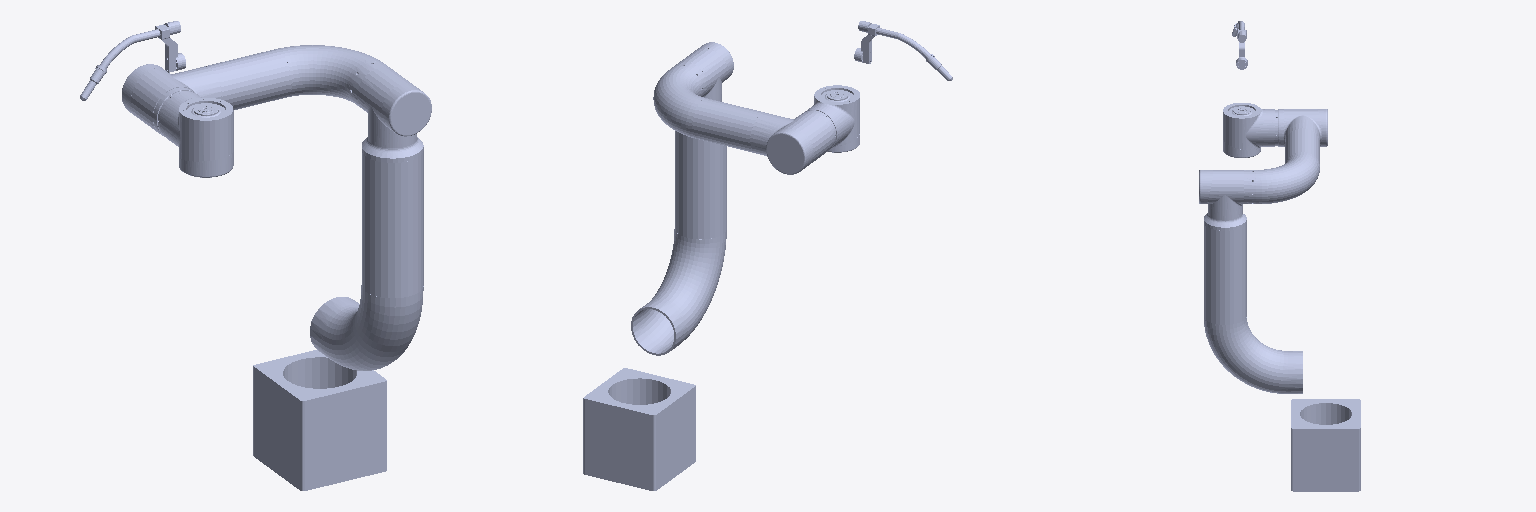
The robot description file, URDF, robot "URDF_Assembly_Robot_ver2":
<?xml version="1.0" encoding="utf-8"?>
<!-- This URDF was automatically created by SolidWorks to URDF Exporter! Originally created by Stephen Brawner (brawner@gmail.com) 
     Commit Version: 1.6.0-4-g7f85cfe  Build Version: 1.6.7995.38578
     For more information, please see http://wiki.ros.org/sw_urdf_exporter -->
<robot
  name="URDF_Assembly_Robot_ver2">
  <!-- Joint position limits and effort/velocity values are provisional.
       Effort and velocity are software placeholders, not actuator ratings. -->
  <link
    name="Base_Link">
    <inertial>
      <origin
        xyz="7.32447693854411E-18 -1.19067266926414E-17 0.1"
        rpy="0 0 0" />
      <mass
        value="4.45952773181733" />
      <inertia
        ixx="0.0365014937398595"
        ixy="-1.11173074327127E-18"
        ixz="3.25877544074145E-19"
        iyy="0.0365014937398595"
        iyz="-1.63931612712631E-18"
        izz="0.0432728026009368" />
    </inertial>
    <visual>
      <origin
        xyz="0 0 0"
        rpy="0 0 0" />
      <geometry>
        <mesh
          filename="package://URDF_Assembly_Robot_ver2/meshes/robot_ver2_Base_Link.STL" />
      </geometry>
      <material
        name="">
        <color
          rgba="0.792156862745098 0.819607843137255 0.933333333333333 1" />
      </material>
    </visual>
    <collision>
      <origin
        xyz="0 0 0"
        rpy="0 0 0" />
      <geometry>
        <mesh
          filename="package://URDF_Assembly_Robot_ver2/meshes/robot_ver2_Base_Link.STL" />
      </geometry>
    </collision>
  </link>
  <!-- Moving-link inertials are expressed in link frames, converted from
       Inventor assembly-frame (Y-up) COMs and COM tensors at q = 0. -->
  <link
    name="Link_1">
    <inertial>
      <origin
        xyz="-0.000010000 -0.024003000 0.114143000"
        rpy="0 0 0" />
      <mass
        value="4.393" />
      <inertia
        ixx="0.017894845"
        ixy="-0.000001148"
        ixz="0.000000970"
        iyy="0.015147419"
        iyz="0.001949386"
        izz="0.012031640" />
    </inertial>
    <visual>
      <origin
        xyz="0 0 0"
        rpy="0 0 0" />
      <geometry>
        <mesh
          filename="package://URDF_Assembly_Robot_ver2/meshes/robot_ver2_Link_1.STL" />
      </geometry>
      <material
        name="">
        <color
          rgba="0.792156862745098 0.819607843137255 0.933333333333333 1" />
      </material>
    </visual>
    <collision>
      <origin
        xyz="0 0 0"
        rpy="0 0 0" />
      <geometry>
        <mesh
          filename="package://URDF_Assembly_Robot_ver2/meshes/robot_ver2_Link_1.STL" />
      </geometry>
    </collision>
  </link>
  <joint
    name="Joint_1"
    type="revolute">
    <origin
      xyz="0 0 0.2"
      rpy="0 0 0" />
    <parent
      link="Base_Link" />
    <child
      link="Link_1" />
    <axis
      xyz="0 0 -1" />
    <limit
      lower="-3.141592653589793"
      upper="3.141592653589793"
      effort="1000"
      velocity="3.141592653589793" />
  </joint>
  <link
    name="Link_2">
    <inertial>
      <origin
        xyz="0 -0.295232000 -0.186319000"
        rpy="0 0 0" />
      <mass
        value="5.113" />
      <inertia
        ixx="0.235463496"
        ixy="-0.000000003"
        ixz="0"
        iyy="0.030331894"
        iyz="-0.034873247"
        izz="0.221411808" />
    </inertial>
    <visual>
      <origin
        xyz="0 0 0"
        rpy="0 0 0" />
      <geometry>
        <mesh
          filename="package://URDF_Assembly_Robot_ver2/meshes/robot_ver2_Link_2.STL" />
      </geometry>
      <material
        name="">
        <color
          rgba="0.792156862745098 0.819607843137255 0.933333333333333 1" />
      </material>
    </visual>
    <collision>
      <origin
        xyz="0 0 0"
        rpy="0 0 0" />
      <geometry>
        <mesh
          filename="package://URDF_Assembly_Robot_ver2/meshes/robot_ver2_Link_2.STL" />
      </geometry>
    </collision>
  </link>
  <joint
    name="Joint_2"
    type="revolute">
    <origin
      xyz="0 -0.0805000000000008 0.132"
      rpy="-1.5707963267949 0 0" />
    <parent
      link="Link_1" />
    <child
      link="Link_2" />
    <axis
      xyz="0 0 -1" />
    <limit
      lower="-3.141592653589793"
      upper="3.141592653589793"
      effort="1000"
      velocity="3.141592653589793" />
  </joint>
  <link
    name="Link_3">
    <inertial>
      <origin
        xyz="-0.223543000 -0.000156321 0.126517000"
        rpy="0 0 0" />
      <mass
        value="3.587" />
      <inertia
        ixx="0.015695173"
        ixy="-0.000072384"
        ixz="0.018629032"
        iyy="0.117469522"
        iyz="0.000003215"
        izz="0.108674954" />
    </inertial>
    <visual>
      <origin
        xyz="0 0 0"
        rpy="0 0 0" />
      <geometry>
        <mesh
          filename="package://URDF_Assembly_Robot_ver2/meshes/robot_ver2_Link_3.STL" />
      </geometry>
      <material
        name="">
        <color
          rgba="0.792156862745098 0.819607843137255 0.933333333333333 1" />
      </material>
    </visual>
    <collision>
      <origin
        xyz="0 0 0"
        rpy="0 0 0" />
      <geometry>
        <mesh
          filename="package://URDF_Assembly_Robot_ver2/meshes/robot_ver2_Link_3.STL" />
      </geometry>
    </collision>
  </link>
  <joint
    name="Joint_3"
    type="revolute">
    <origin
      xyz="0 -0.589954679438418 -0.155500000000012"
      rpy="0 0 0" />
    <parent
      link="Link_2" />
    <child
      link="Link_3" />
    <axis
      xyz="0 0 1" />
    <limit
      lower="-3.141592653589793"
      upper="3.141592653589793"
      effort="1000"
      velocity="3.141592653589793" />
  </joint>
  <link
    name="Link_4">
    <inertial>
      <origin
        xyz="-0.000003039 -0.020318997 -0.112176000"
        rpy="0 0 0" />
      <mass
        value="1.634" />
      <inertia
        ixx="0.005047515"
        ixy="0.000000020"
        ixz="0.000000023"
        iyy="0.004639205"
        iyz="-0.000524855"
        izz="0.003408745" />
    </inertial>
    <visual>
      <origin
        xyz="0 0 0"
        rpy="0 0 0" />
      <geometry>
        <mesh
          filename="package://URDF_Assembly_Robot_ver2/meshes/robot_ver2_Link_4.STL" />
      </geometry>
      <material
        name="">
        <color
          rgba="0.792156862745098 0.819607843137255 0.933333333333333 1" />
      </material>
    </visual>
    <collision>
      <origin
        xyz="0 0 0"
        rpy="0 0 0" />
      <geometry>
        <mesh
          filename="package://URDF_Assembly_Robot_ver2/meshes/robot_ver2_Link_4.STL" />
      </geometry>
    </collision>
  </link>
  <joint
    name="Joint_4"
    type="revolute">
    <origin
      xyz="-0.404499960921119 -4.53236012523117E-05 0.112999999998695"
      rpy="0 0 0" />
    <parent
      link="Link_3" />
    <child
      link="Link_4" />
    <axis
      xyz="0 0 -1" />
    <limit
      lower="-3.141592653589793"
      upper="3.141592653589793"
      effort="1000"
      velocity="3.141592653589793" />
  </joint>
  <link
    name="Link_5">
    <inertial>
      <origin
        xyz="-0.020319039 0.007003000 -0.110676000"
        rpy="0 0 0" />
      <mass
        value="1.634" />
      <inertia
        ixx="0.004639205"
        ixy="-0.000000020"
        ixz="-0.000524855"
        iyy="0.005047515"
        iyz="-0.000000023"
        izz="0.003408745" />
    </inertial>
    <visual>
      <origin
        xyz="0 0 0"
        rpy="0 0 0" />
      <geometry>
        <mesh
          filename="package://URDF_Assembly_Robot_ver2/meshes/robot_ver2_Link_5.STL" />
      </geometry>
      <material
        name="">
        <color
          rgba="0.792156862745098 0.819607843137255 0.933333333333333 1" />
      </material>
    </visual>
    <collision>
      <origin
        xyz="0 0 0"
        rpy="0 0 0" />
      <geometry>
        <mesh
          filename="package://URDF_Assembly_Robot_ver2/meshes/robot_ver2_Link_5.STL" />
      </geometry>
    </collision>
  </link>
  <joint
    name="Joint_5"
    type="revolute">
    <origin
      xyz="0 -0.0554999969603261 -0.119500000000061"
      rpy="-1.5707963267949 0 0" />
    <parent
      link="Link_4" />
    <child
      link="Link_5" />
    <axis
      xyz="0 0 -1" />
    <limit
      lower="-3.141592653589793"
      upper="3.141592653589793"
      effort="1000"
      velocity="3.141592653589793" />
  </joint>
  <link
    name="End_Effector">
    <inertial>
      <origin
        xyz="-0.008408756 -0.050761756 0.066331256"
        rpy="0 0 0" />
      <mass
        value="1.134" />
      <inertia
        ixx="0.005579273"
        ixy="0.000033235"
        ixz="0.000223269"
        iyy="0.004477524"
        iyz="0.000351426"
        izz="0.001211861" />
    </inertial>
    <visual>
      <origin
        xyz="0 0 0"
        rpy="0 0 0" />
      <geometry>
        <mesh
          filename="package://URDF_Assembly_Robot_ver2/meshes/robot_ver2_End_Effector.STL" />
      </geometry>
      <material
        name="">
        <color
          rgba="0.79216 0.81961 0.93333 1" />
      </material>
    </visual>
    <collision>
      <origin
        xyz="0 0 0"
        rpy="0 0 0" />
      <geometry>
        <mesh
          filename="package://URDF_Assembly_Robot_ver2/meshes/robot_ver2_End_Effector.STL" />
      </geometry>
    </collision>
  </link>
  <joint
    name="Joint_6"
    type="revolute">
    <origin
      xyz="-0.0555 0 -0.1195"
      rpy="1.5708 0 -1.5708" />
    <parent
      link="Link_5" />
    <child
      link="End_Effector" />
    <axis
      xyz="0 0 1" />
    <limit
      lower="-3.141592653589793"
      upper="3.141592653589793"
      effort="1000"
      velocity="3.141592653589793" />
  </joint>
  <!-- TCP measured relative to Joint 6 / End_Effector, supplied 2026-10-15:
       [-22.87, +20.53, +245.77] mm; axes parallel to Joint 6.
       The existing End_Effector already owns the torch mesh and inertia. -->
  <link name="tcp">
    <inertial>
      <origin xyz="0 0 0" rpy="0 0 0" />
      <mass value="0" />
      <inertia ixx="0" ixy="0" ixz="0" iyy="0" iyz="0" izz="0" />
    </inertial>
  </link>
  <joint name="tcp_fixed" type="fixed">
    <origin xyz="-0.02287 0.02053 0.24577" rpy="0 0 0" />
    <parent link="End_Effector" />
    <child link="tcp" />
  </joint>
</robot>

--- Render facts (derived) ---
The picture shows the robot from 3 angles, left to right: view 1: azimuth 30°, elevation 25°; view 2: azimuth 150°, elevation 25°; view 3: azimuth 270°, elevation 25°; orthographic projection.
Robot: URDF_Assembly_Robot_ver2 — 8 links, 7 joints (6 revolute, 1 fixed); root link Base_Link; default pose: all joints at 0.
Links seen in each view (by area): view 1: Link_2, Base_Link, Link_3, Link_4, End_Effector; view 2: Link_2, Base_Link, Link_3, Link_4, End_Effector; view 3: Link_2, Base_Link, Link_3, Link_4.
Link boxes in pixels (x1,y1,x2,y2): Link_2: (310, 67, 431, 370); Base_Link: (253, 350, 386, 490); Link_3: (122, 45, 392, 135); Link_4: (153, 87, 233, 177); End_Effector: (80, 21, 185, 100); Link_2: (631, 42, 733, 355); Base_Link: (583, 368, 695, 490); Link_3: (653, 62, 831, 174); Link_4: (802, 85, 859, 152); End_Effector: (854, 21, 952, 80); Link_2: (1199, 170, 1302, 393); Base_Link: (1291, 399, 1360, 491); Link_3: (1244, 109, 1327, 203); Link_4: (1223, 103, 1283, 157).
Bounding box of the posed robot: 0.8082 × 0.4658 × 1.19 m (x, y, z).
Meshes: 7 distinct files referenced, 5 mesh visuals loaded (5 binary STL); not drawn: 2 (reference not matched to a file when rendering).
